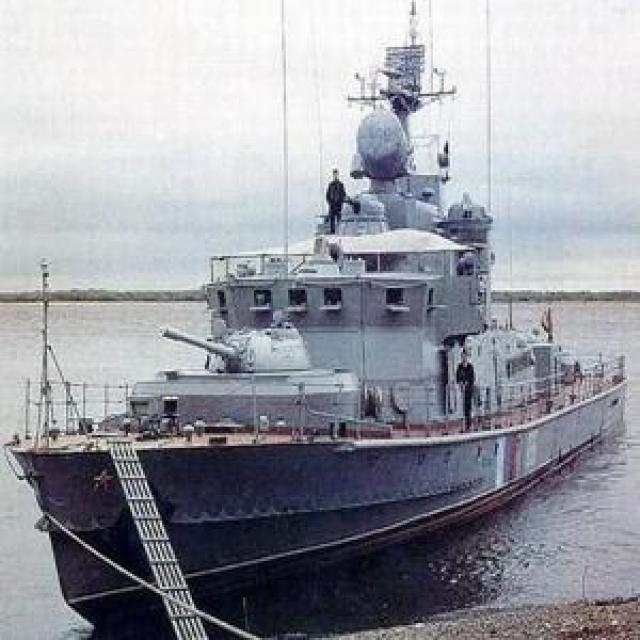navalvessels: (11, 25, 623, 612)
